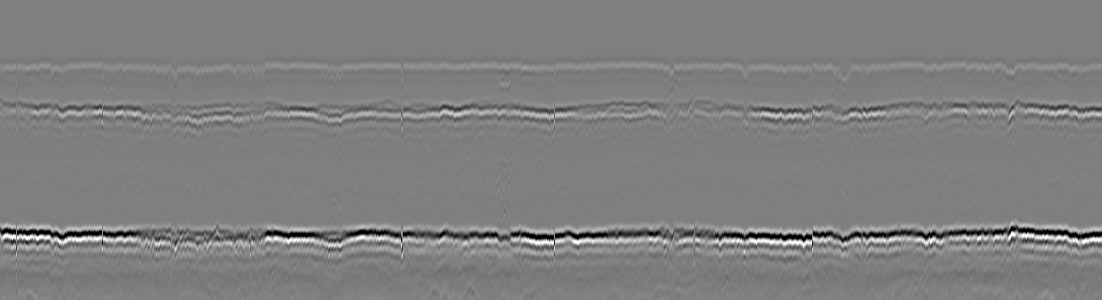fault: (996, 96, 1025, 142), (828, 52, 858, 91), (997, 49, 1024, 87)
